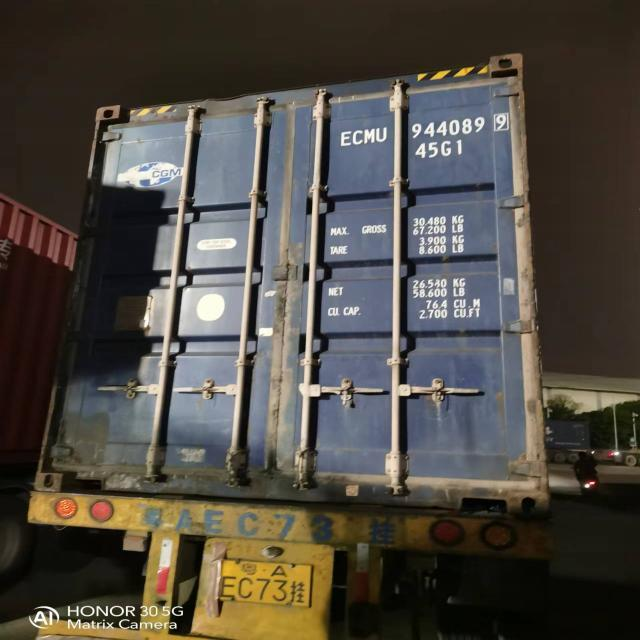ISO: (414, 138, 464, 160)
container_number: (342, 116, 502, 140)
